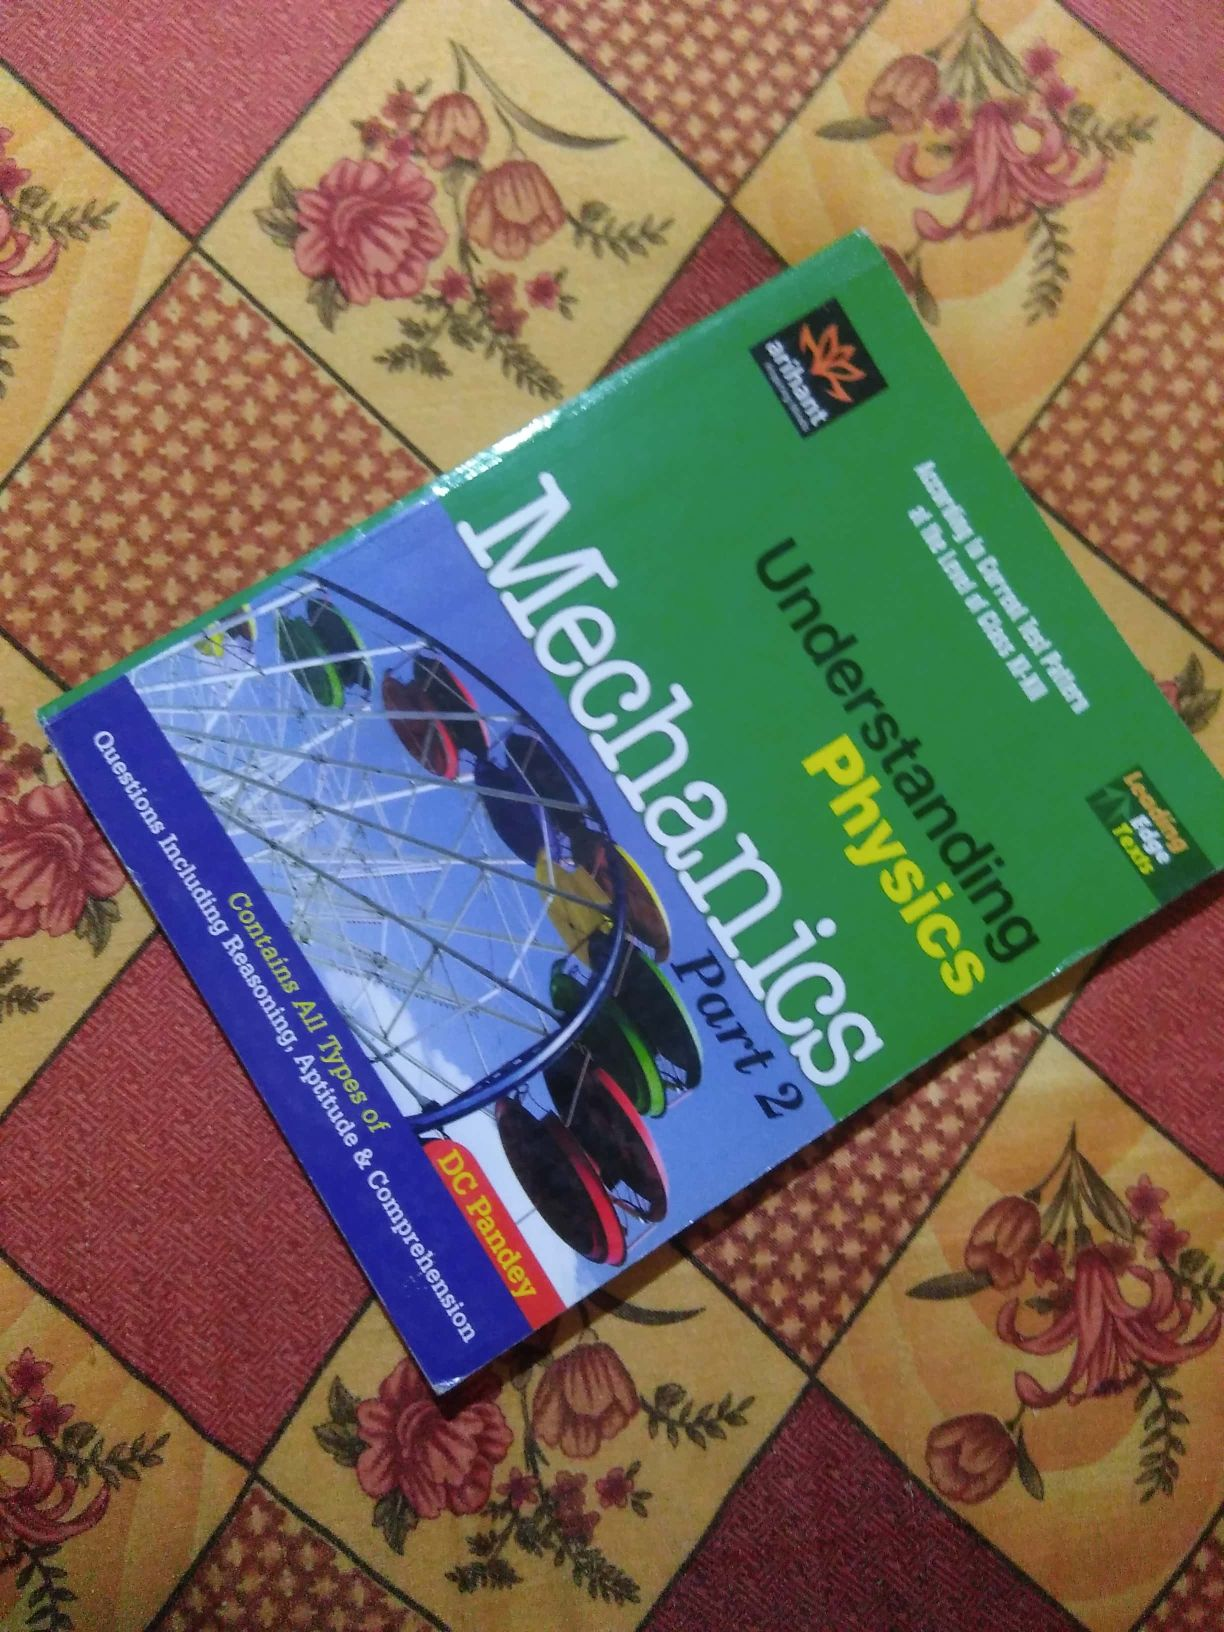mechanics: (53, 298, 1224, 1321)
